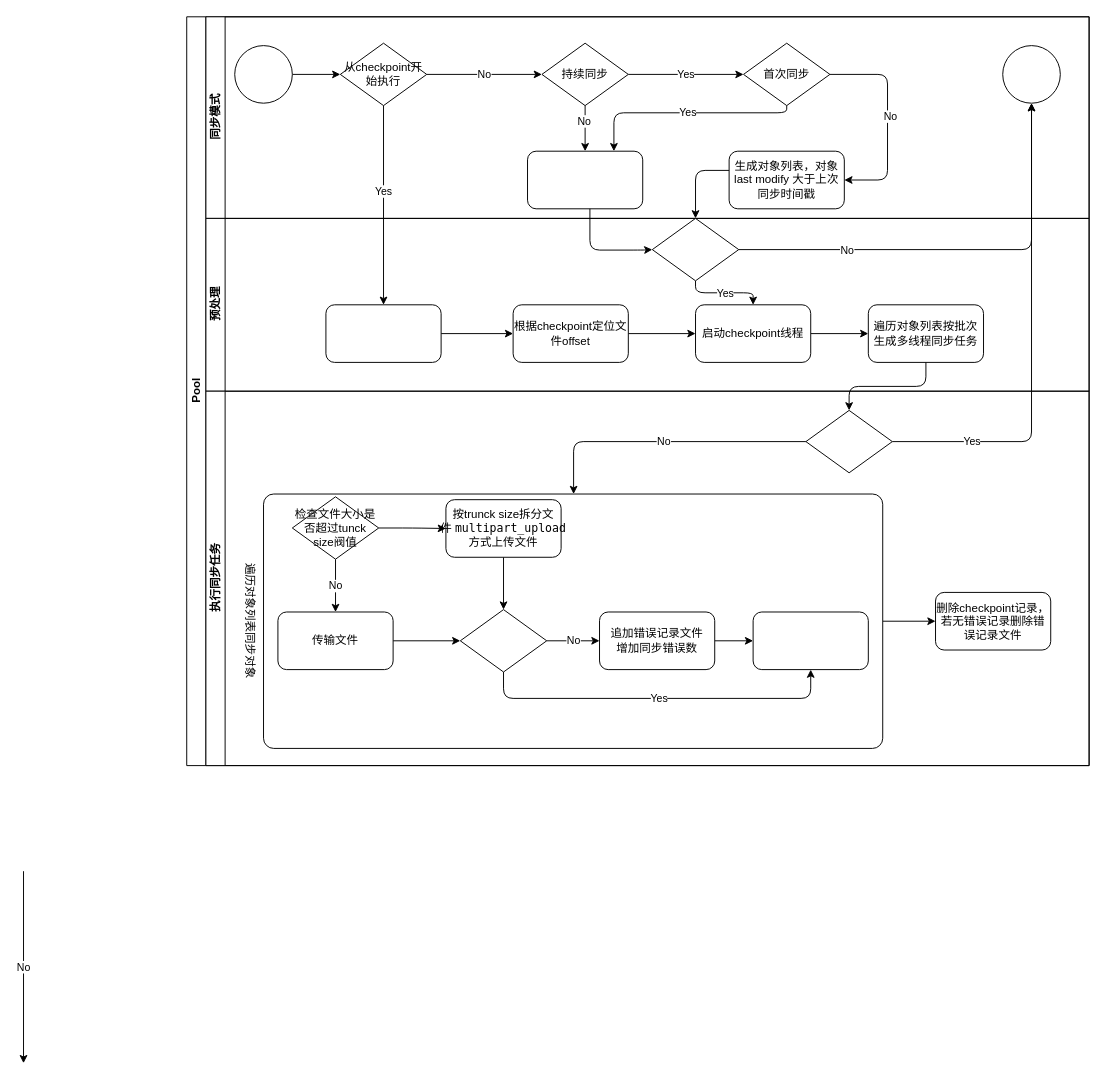
The diagram is 1106 pixels wide and 1088 high, and some of its shapes have lost their labels. The centre of each missing label's shape, as x and y in pixels:
"上传文件成功" goes at [503,640].
"同步结束" goes at [1031,74].
"处理错误记录" goes at [383,333].
"开始同步" goes at [263,74].
"文件生成成功" goes at [695,249].
"检查同步错误数量是否到达上限" goes at [848,441].
"生成对象列表文件" goes at [585,179].
"记录checkpoint" goes at [810,640].
